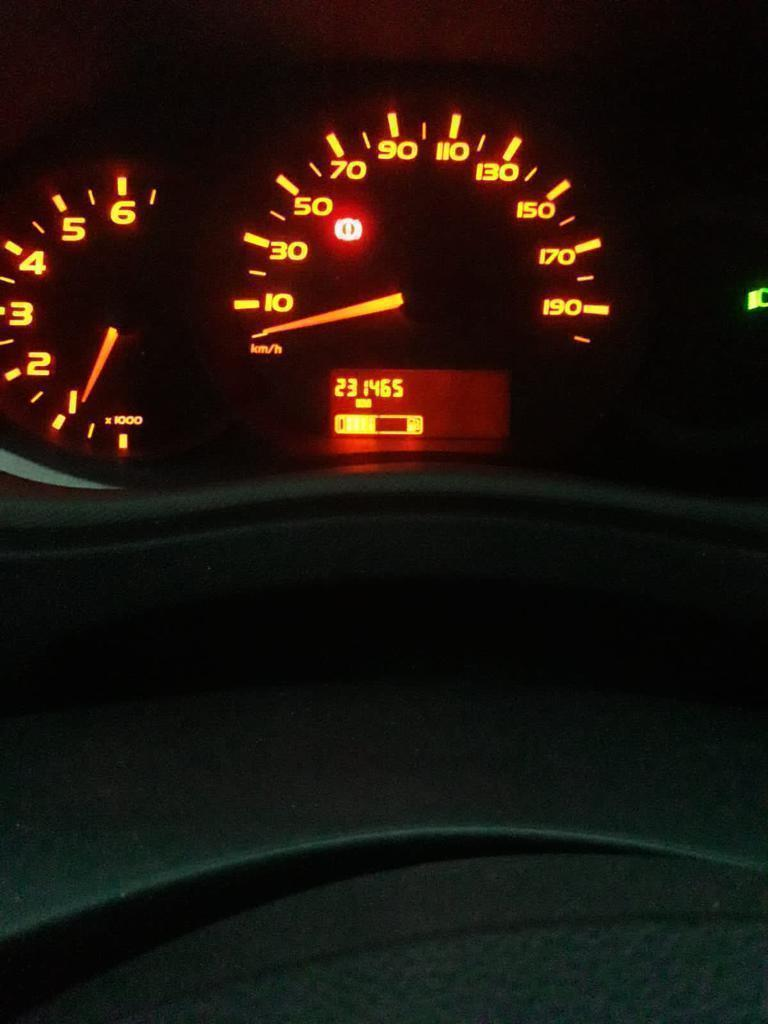1: (363, 378, 368, 397)
2: (334, 376, 346, 398)
3: (347, 376, 357, 396)
4: (369, 378, 379, 396)
5: (391, 377, 404, 398)
6: (380, 377, 391, 398)
X: (363, 397, 372, 409), (354, 397, 363, 408)
odometer: (323, 366, 514, 444)
